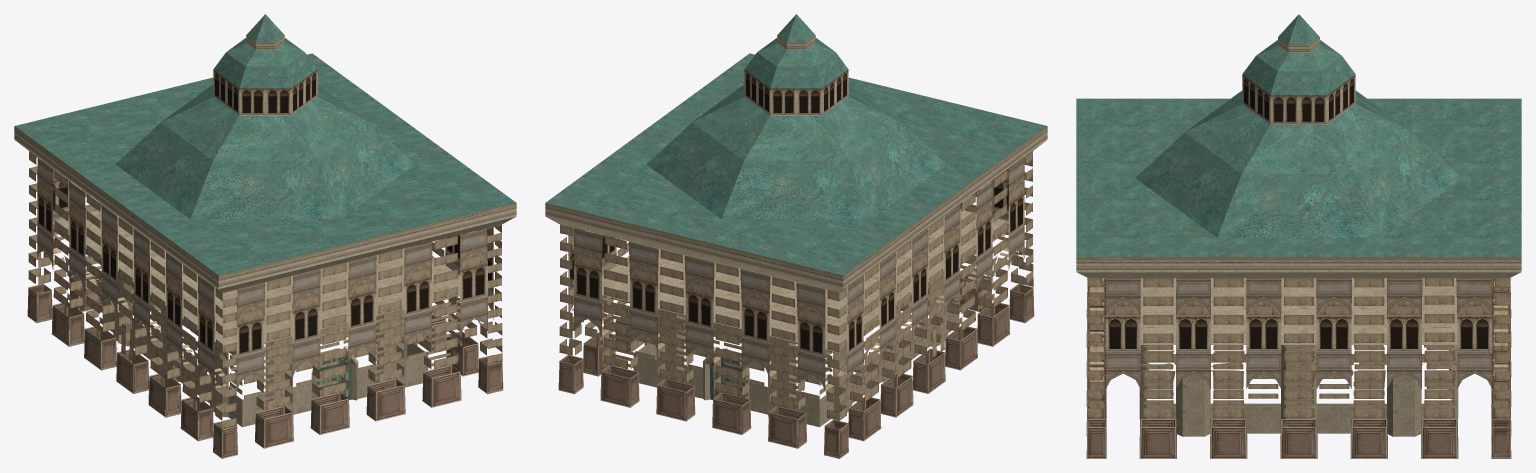
File: thm_nboo_thed_imprv_building_s05_l1.fbx
3 renders of one model, left to right at view 1: azimuth 30°, elevation 25°; view 2: azimuth 150°, elevation 25°; view 3: azimuth 270°, elevation 25°, orthographic. The views are drawn at different scales.
Visible parts, largest first — view 1: mesh_node; view 2: mesh_node; view 3: mesh_node.
Boxes of the visible parts, x1,y1,x2,y2 form: mesh_node: (14,14,516,458); mesh_node: (545,14,1047,458); mesh_node: (1076,14,1521,458).
Bounding box in the file's own units: 24 × 26.14 × 28.5.
